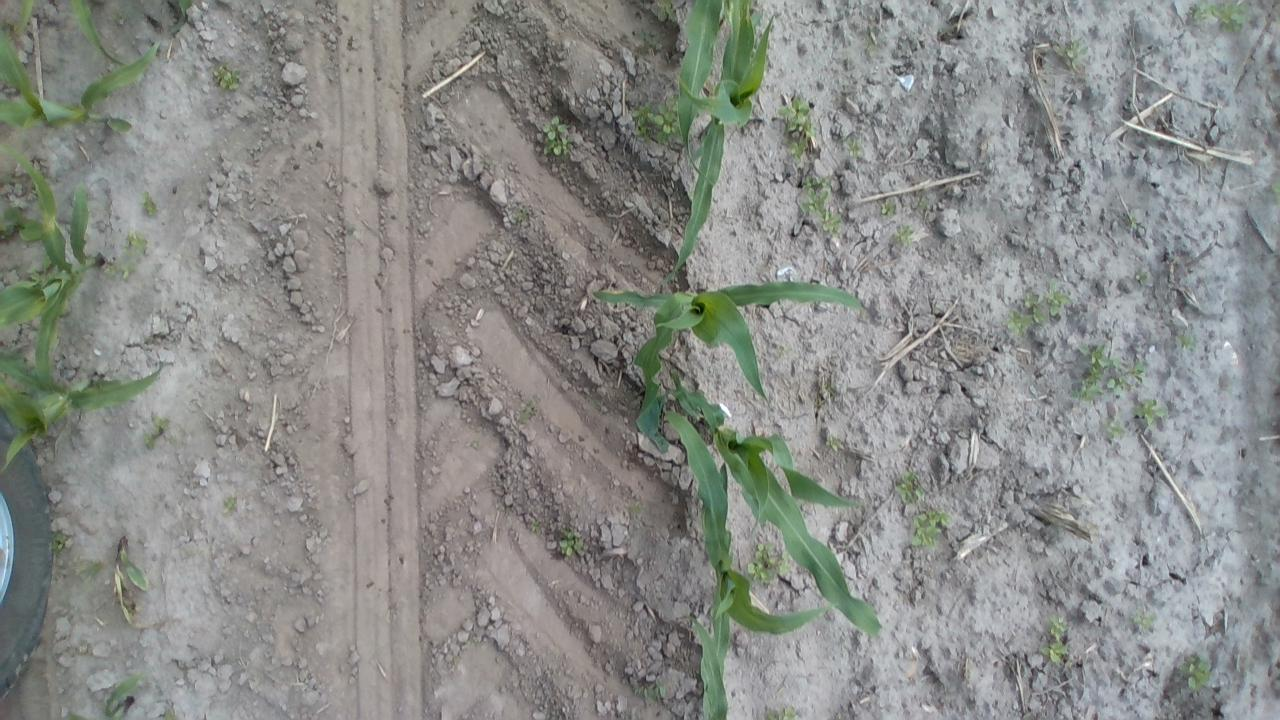Maize: (664, 366, 884, 642), (661, 407, 840, 678), (592, 283, 865, 453), (668, 0, 774, 282), (0, 145, 106, 393), (0, 349, 164, 478), (0, 25, 160, 135), (676, 0, 719, 189), (691, 617, 730, 720), (74, 0, 125, 69), (111, 534, 149, 590), (105, 671, 144, 720), (168, 0, 192, 35), (12, 0, 36, 33), (62, 712, 88, 720)
Weeds: (1076, 341, 1146, 400), (773, 95, 814, 158), (632, 97, 682, 146), (800, 176, 841, 234), (744, 538, 791, 581), (1005, 292, 1047, 334), (910, 505, 951, 547), (540, 116, 579, 157), (145, 414, 174, 450), (1212, 4, 1250, 31), (1183, 656, 1211, 692), (552, 528, 584, 558), (1046, 279, 1072, 315), (1134, 395, 1168, 422), (892, 472, 919, 502), (80, 558, 108, 586), (212, 65, 240, 90), (1132, 610, 1160, 635), (1064, 37, 1086, 62), (895, 222, 917, 243), (766, 705, 796, 720), (1186, 3, 1207, 24), (144, 191, 160, 218), (1050, 617, 1070, 638), (658, 0, 676, 23), (1044, 642, 1064, 662), (846, 138, 866, 158), (117, 265, 138, 284), (1104, 420, 1126, 438), (126, 231, 150, 246), (826, 434, 844, 454), (641, 680, 660, 696), (52, 532, 67, 552), (1176, 329, 1192, 347), (710, 703, 726, 720), (880, 200, 896, 216), (223, 496, 239, 512), (527, 521, 541, 534), (100, 262, 112, 276), (1134, 274, 1150, 281), (1273, 182, 1280, 196)
